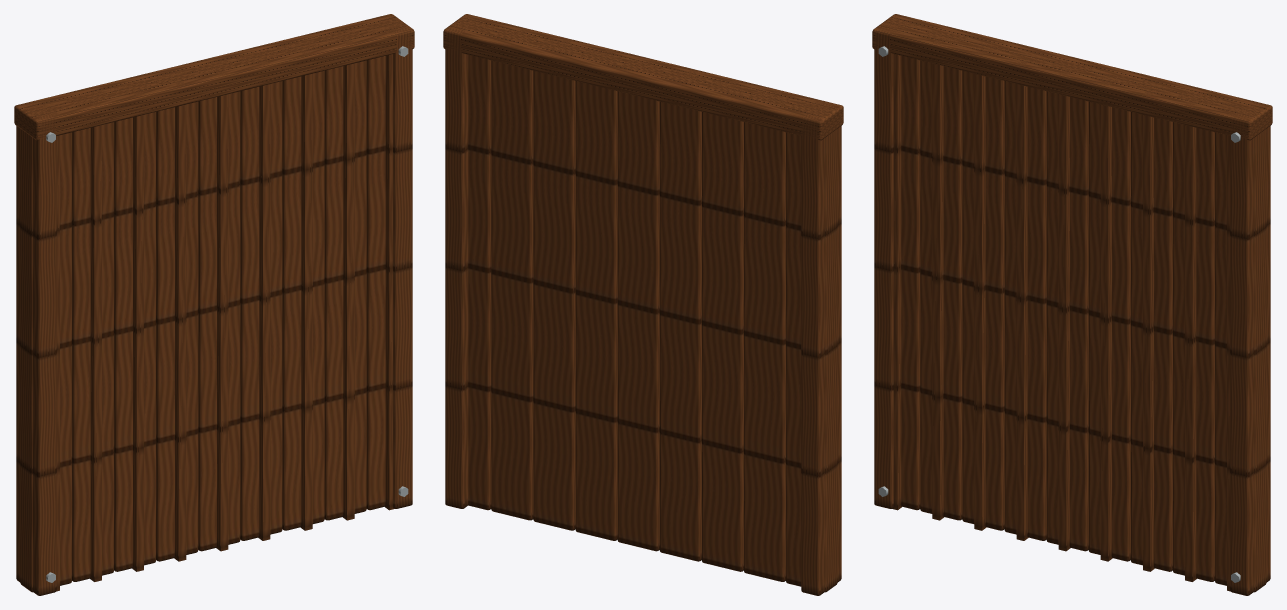
The model's file is modular-survival-base-builder-wall-board-and-batten-294717dd__24167.glb.
3 renders of one model, left to right at view 1: azimuth 30°, elevation 25°; view 2: azimuth 150°, elevation 25°; view 3: azimuth 330°, elevation 25°, orthographic.
Visible parts, largest first — view 1: wall-board-and-batten; view 2: wall-board-and-batten; view 3: wall-board-and-batten.
Boxes of the visible parts, x1,y1,x2,y2 form: wall-board-and-batten: [14, 14, 414, 595]; wall-board-and-batten: [443, 14, 843, 595]; wall-board-and-batten: [872, 14, 1272, 595].
Bounding box in the file's own units: 2 × 2.4 × 0.2335.
Materials: 2 (1 with a texture image).
